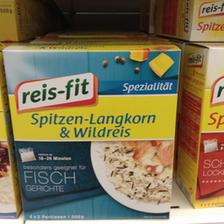Reis: (2, 41, 180, 220)
